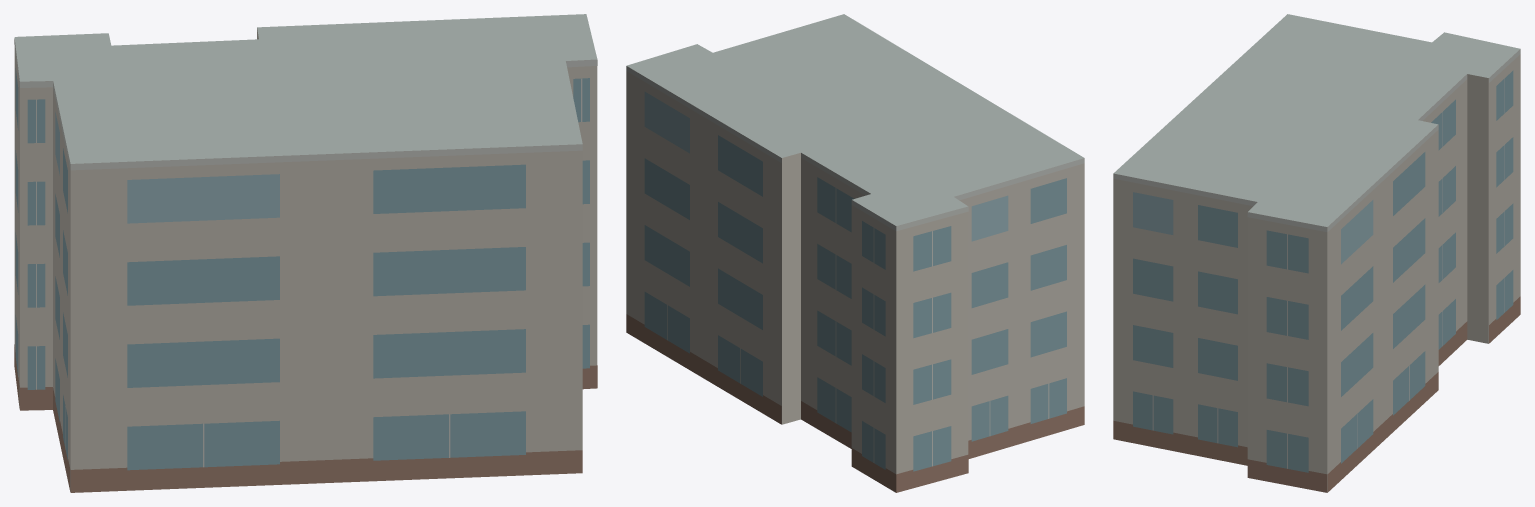
File: survey-upis-32634238.glb
The picture shows the model from 3 angles, left to right: view 1: azimuth 30°, elevation 25°; view 2: azimuth 150°, elevation 25°; view 3: azimuth 270°, elevation 25°; orthographic projection. The views are drawn at different scales.
Visible parts, largest first — view 1: survey-upis-32634238.tmp; view 2: survey-upis-32634238.tmp; view 3: survey-upis-32634238.tmp.
Boxes of the visible parts, bbox=[...] form: survey-upis-32634238.tmp: bbox=[14, 14, 597, 492]; survey-upis-32634238.tmp: bbox=[626, 14, 1084, 492]; survey-upis-32634238.tmp: bbox=[1113, 14, 1520, 492].
Bounding box in the file's own units: 21.59 × 12.55 × 17.44.
